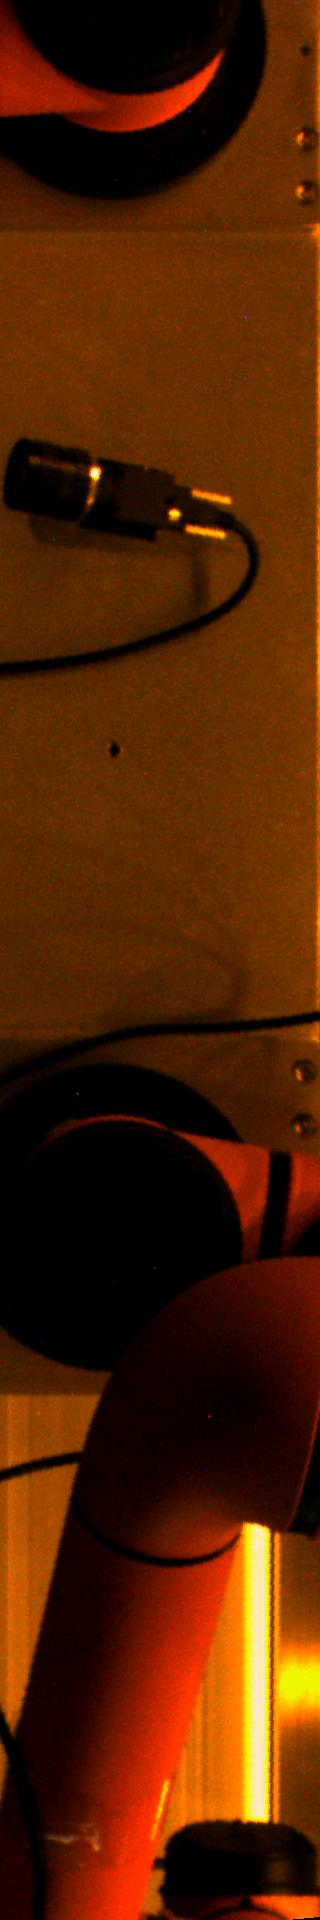keyPoint_2: (98, 736, 128, 767)
